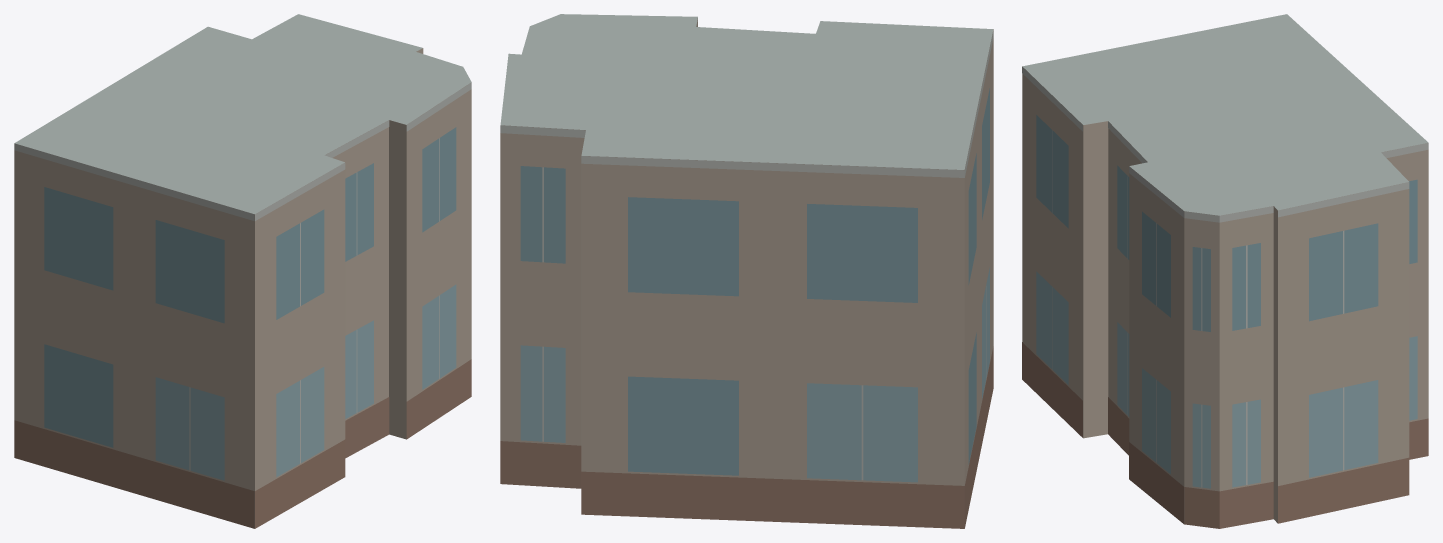
The model's file is survey-upis-32741645.glb.
The picture shows the model from 3 angles, left to right: view 1: azimuth 30°, elevation 25°; view 2: azimuth 150°, elevation 25°; view 3: azimuth 270°, elevation 25°; orthographic projection. The views are drawn at different scales.
Visible parts, largest first — view 1: survey-upis-32741645.tmp; view 2: survey-upis-32741645.tmp; view 3: survey-upis-32741645.tmp.
Part boxes in pixels (x1,y1,x2,y2): survey-upis-32741645.tmp: [14, 14, 471, 528]; survey-upis-32741645.tmp: [500, 14, 993, 528]; survey-upis-32741645.tmp: [1022, 14, 1428, 528].
Size of the model in its own units: 15.2 by 11 by 12.95.
